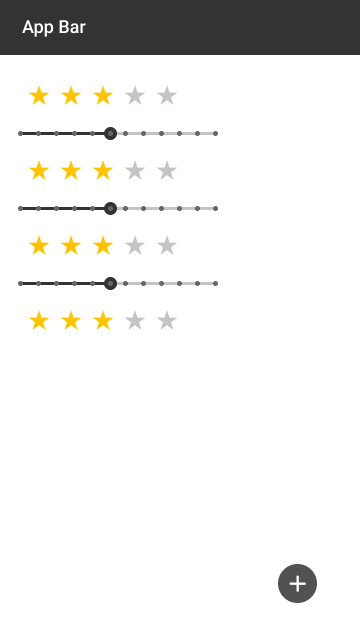floatingButton: (278, 563, 318, 605)
ratingBar: (26, 231, 180, 260), (26, 82, 183, 110), (26, 308, 182, 333), (26, 160, 178, 183)
slider: (14, 123, 223, 145), (16, 201, 222, 217), (16, 275, 222, 290)
toolbar: (1, 1, 359, 56)
